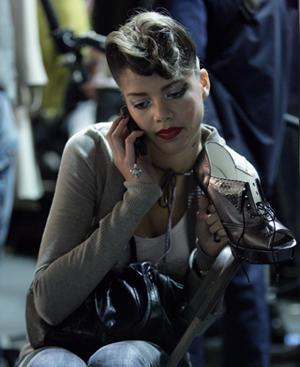person: (28, 10, 296, 367)
